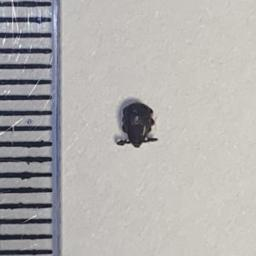Rhipicephalus sanguineus: (115, 103, 159, 148)
